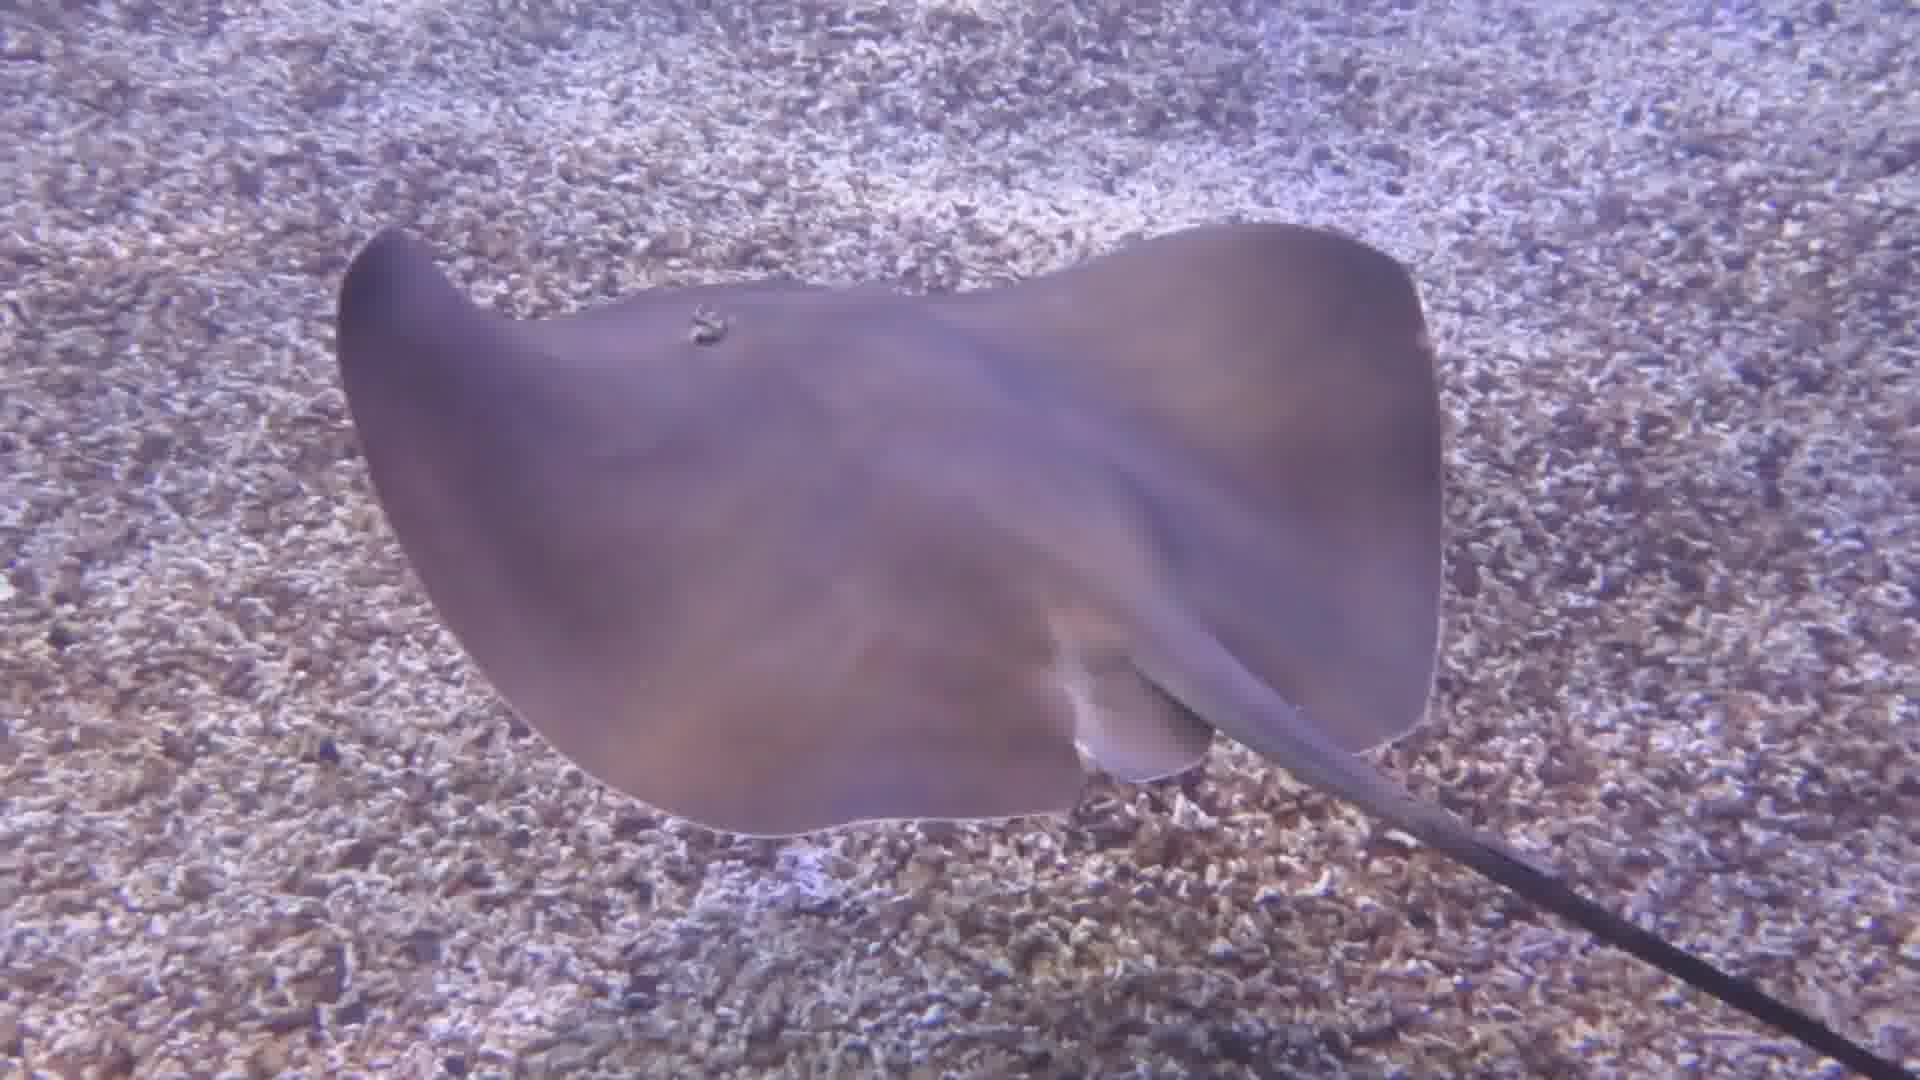Dasyatis akajei: (309, 171, 1920, 1080)
